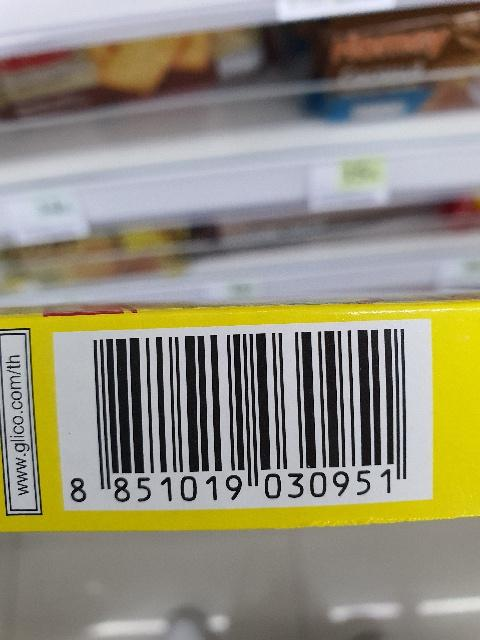Barcode: (65, 319, 431, 508)
